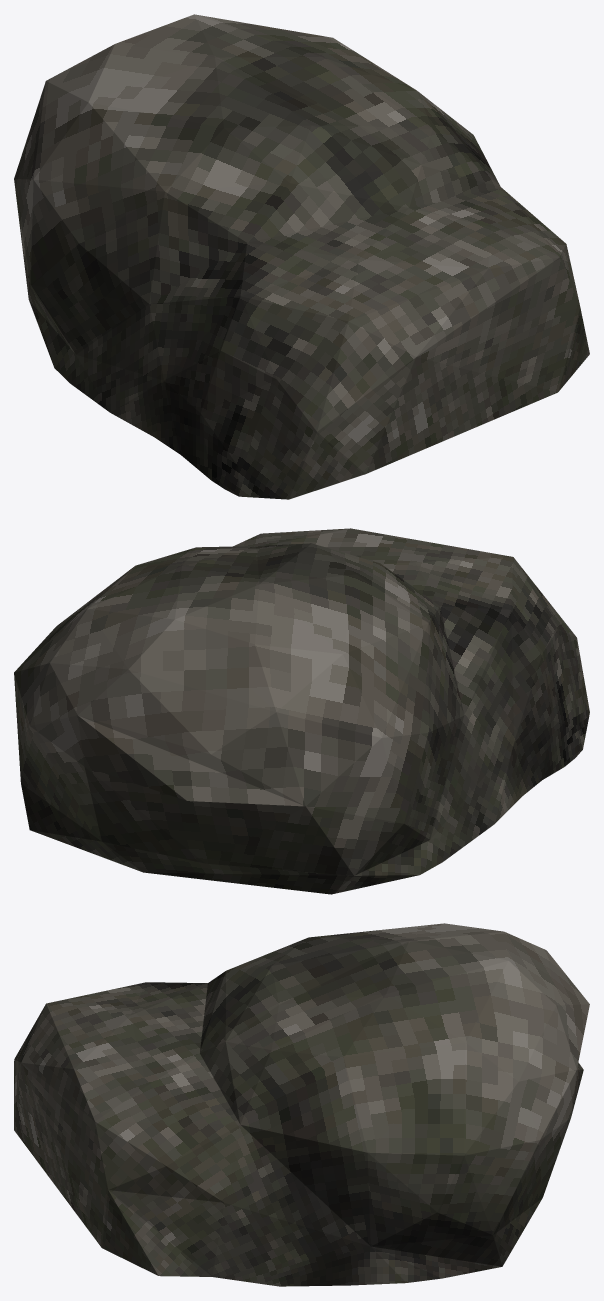
The model's file is small_rocks_03.glb.
The picture shows the model from 3 angles, top to bottom: view 1: azimuth 30°, elevation 25°; view 2: azimuth 150°, elevation 25°; view 3: azimuth 270°, elevation 25°; orthographic projection. The views are drawn at different scales.
Visible parts, largest first — view 1: small_rocks_03; view 2: small_rocks_03; view 3: small_rocks_03.
Boxes of the visible parts, x1,y1,x2,y2 form: small_rocks_03: (14, 14, 589, 499); small_rocks_03: (14, 528, 589, 894); small_rocks_03: (14, 923, 589, 1286).
Bounding box in the file's own units: 3.42 × 2.11 × 4.52.
1 material, 1 textured.
